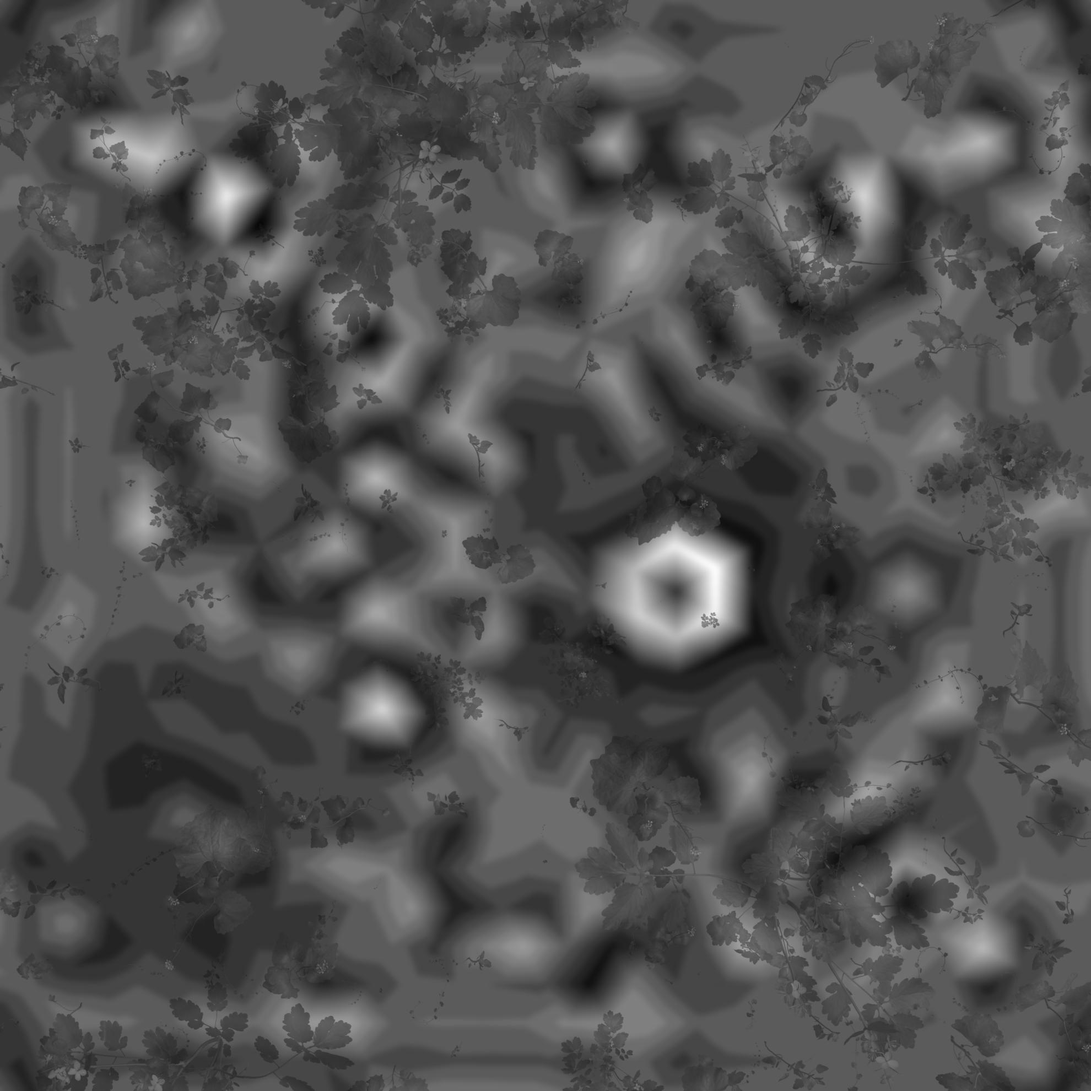landmine: (600, 511, 758, 658), (143, 782, 258, 885)
